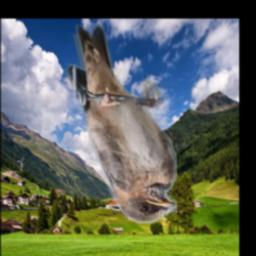Swallow: (65, 24, 178, 224)
